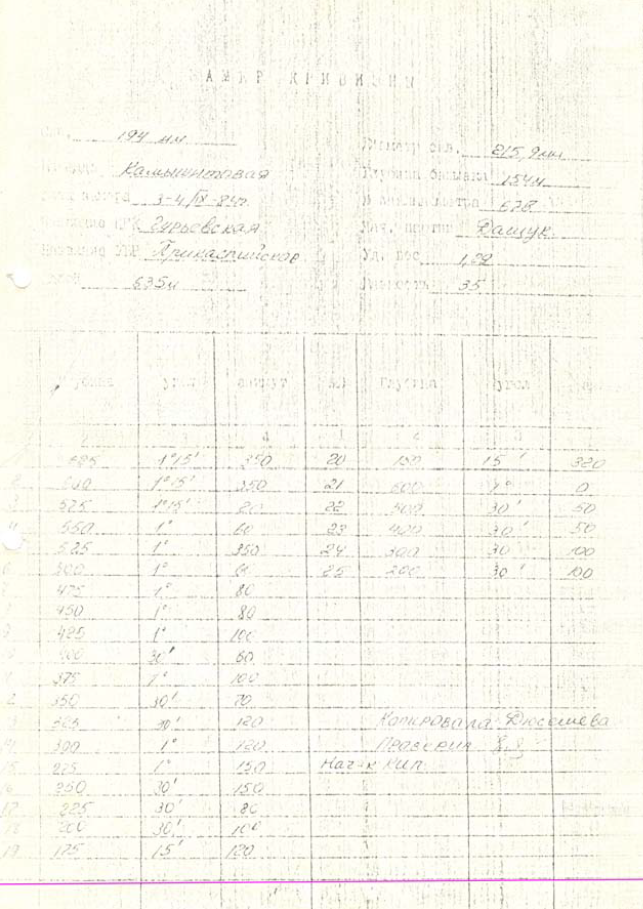Borderless: (12, 334, 643, 879)
